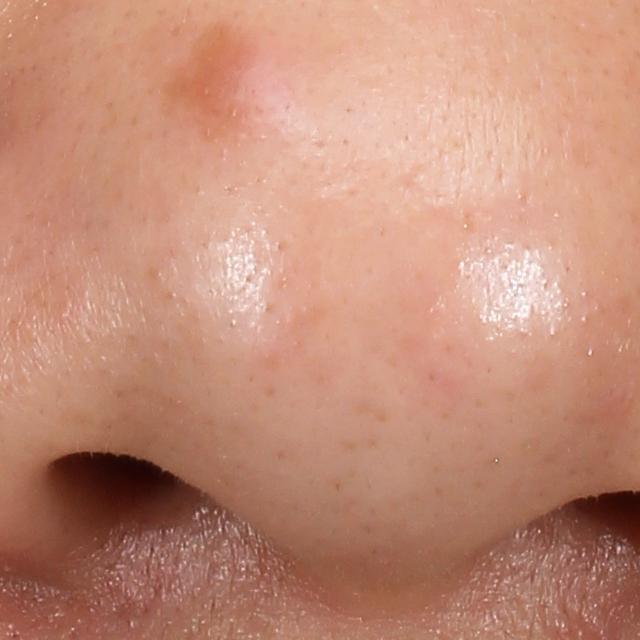papule: (189, 30, 287, 121)
